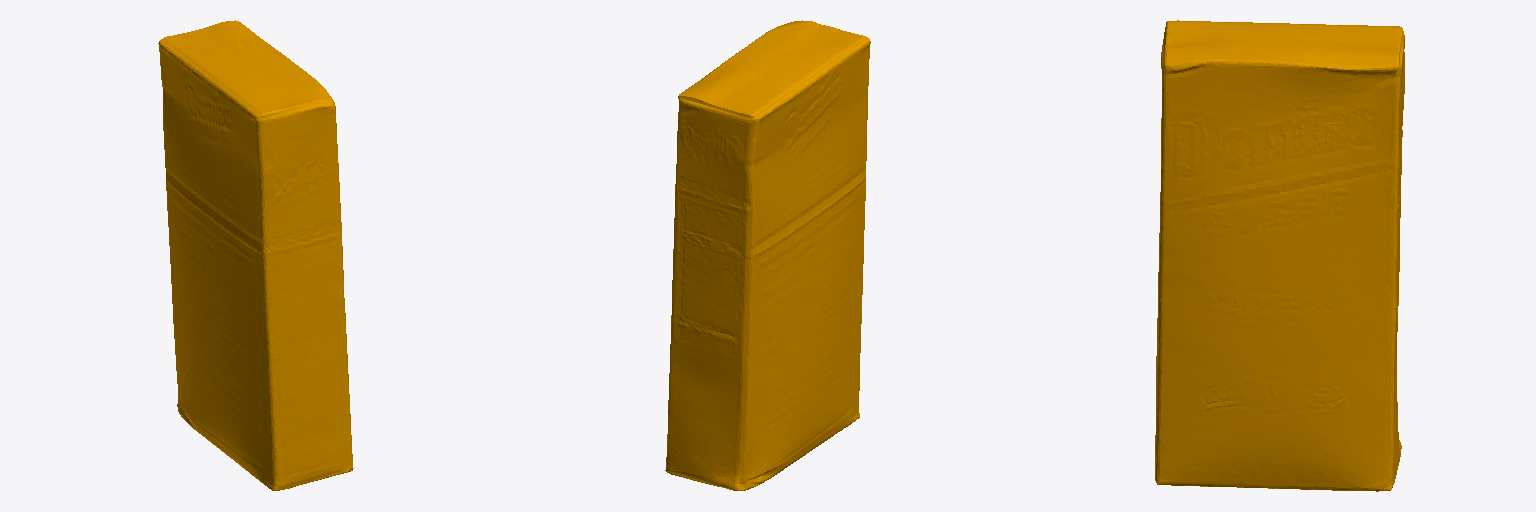
robot.urdf — 013_apple:
<?xml version="1.0"?>
<robot name="013_apple">
  <link name="base_link">
    <inertial>
      <mass value="0.1" />
      <origin xyz="0 0 0" />
      <inertia  ixx="0.0002" ixy="0.0"  ixz="0.0"  iyy="0.0002"  iyz="0.0" izz="0.0002" />
    </inertial>
    <visual>
      <geometry>
        <mesh filename="../meshes/ycb_video_models/centered/013_apple/textured.obj" />
      </geometry>
    </visual>
    <collision>
      <geometry>
        <mesh filename="../meshes/ycb_video_models/centered/013_apple/textured.obj" />
      </geometry>
    </collision>
  </link>
</robot>

--- What the picture shows (computed from the rendered views, not written in the file) ---
Views: 3 orthographic renders of the robot side by side, from view 1: azimuth 30°, elevation 25°; view 2: azimuth 150°, elevation 25°; view 3: azimuth 270°, elevation 25°.
Model 013_apple with 1 links and 0 joints (none), rooted at base_link, posed all joints at 0.
Links seen in each view (by area): view 1: base_link; view 2: base_link; view 3: base_link.
Boxes of the visible links, x1,y1,x2,y2 form: base_link: (158,20,353,490); base_link: (665,20,870,490); base_link: (1155,20,1404,491).
Size in the robot's own frame: 0.0495 by 0.0942 by 0.176 metres.
1 mesh visuals loaded from 1 distinct referenced files (1 OBJ).